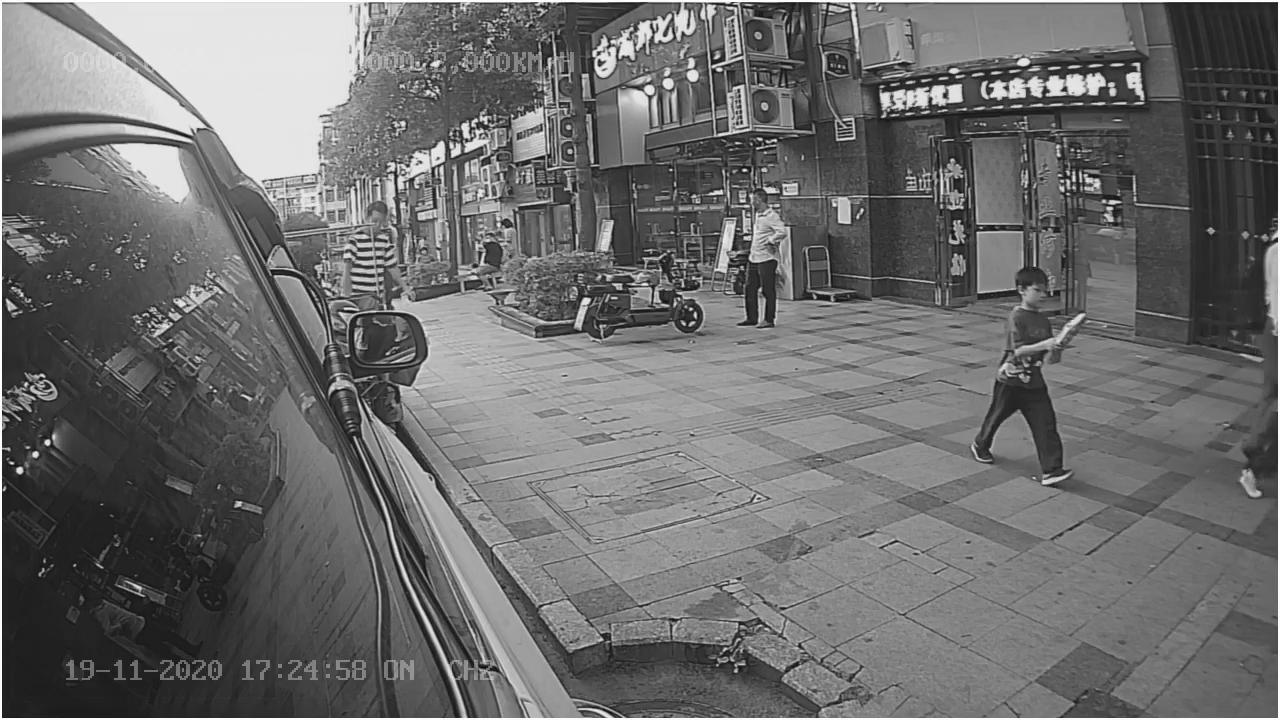person: (965, 265, 1081, 489)
